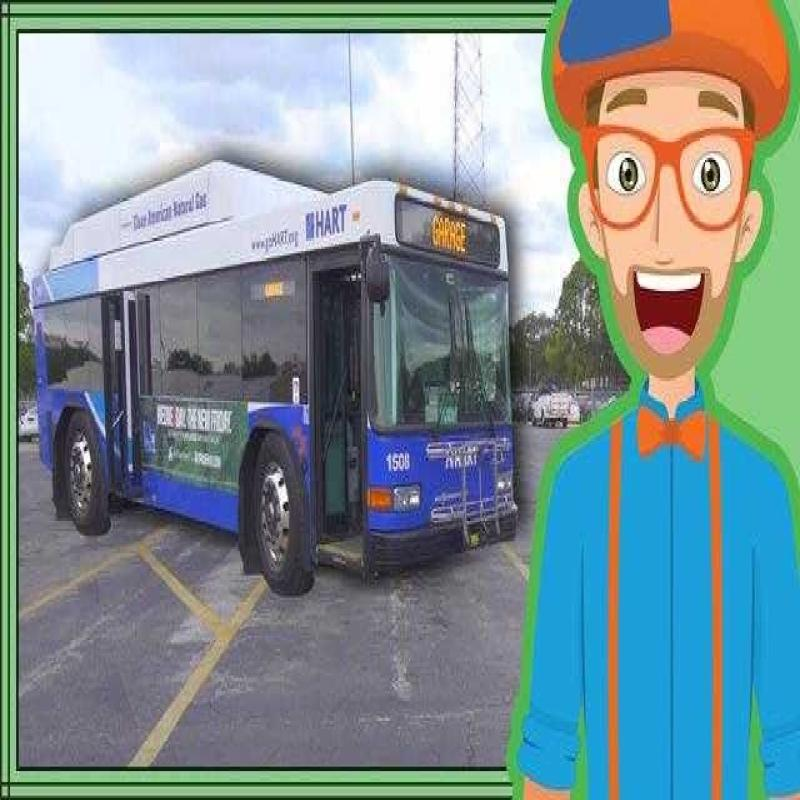bus: (45, 144, 536, 641)
